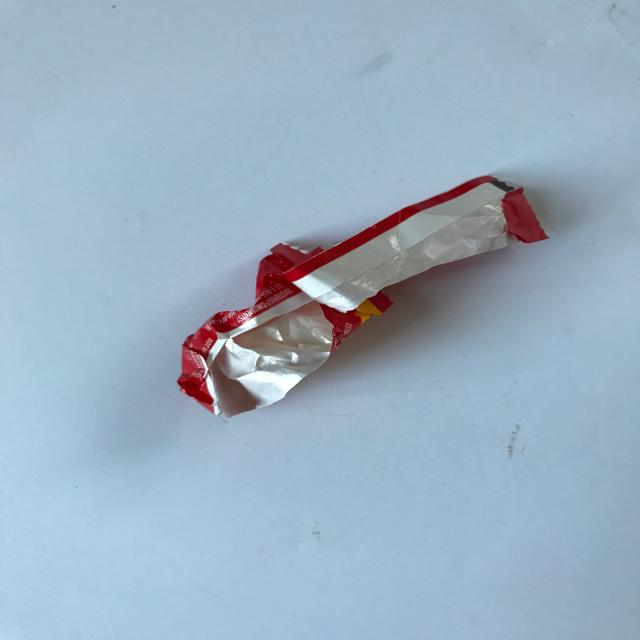Trash: (177, 174, 549, 421)
